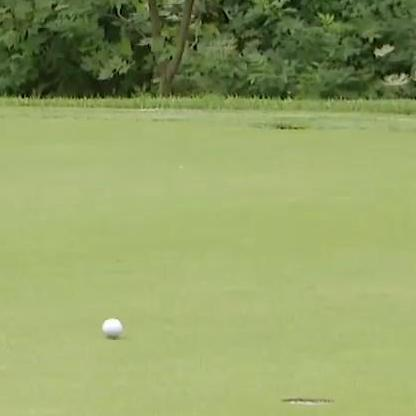golfball: (99, 315, 122, 338)
